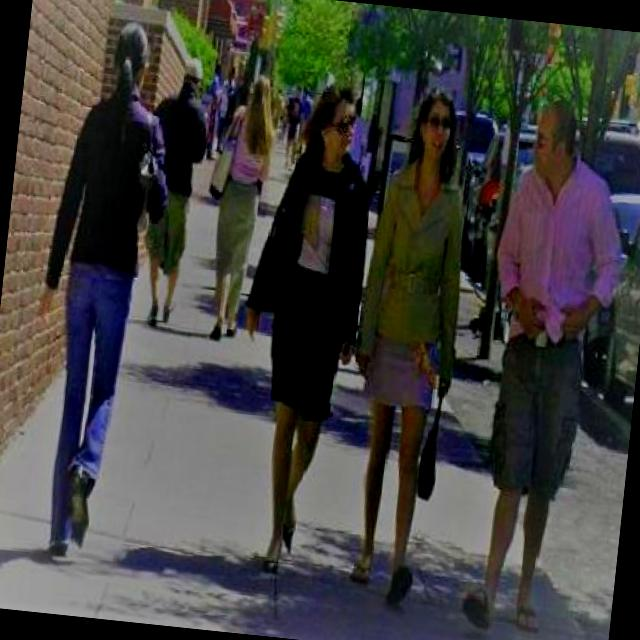Person: (454, 92, 640, 640), (8, 13, 178, 565), (222, 73, 380, 578), (332, 80, 472, 608), (188, 68, 286, 341), (132, 54, 216, 332)
